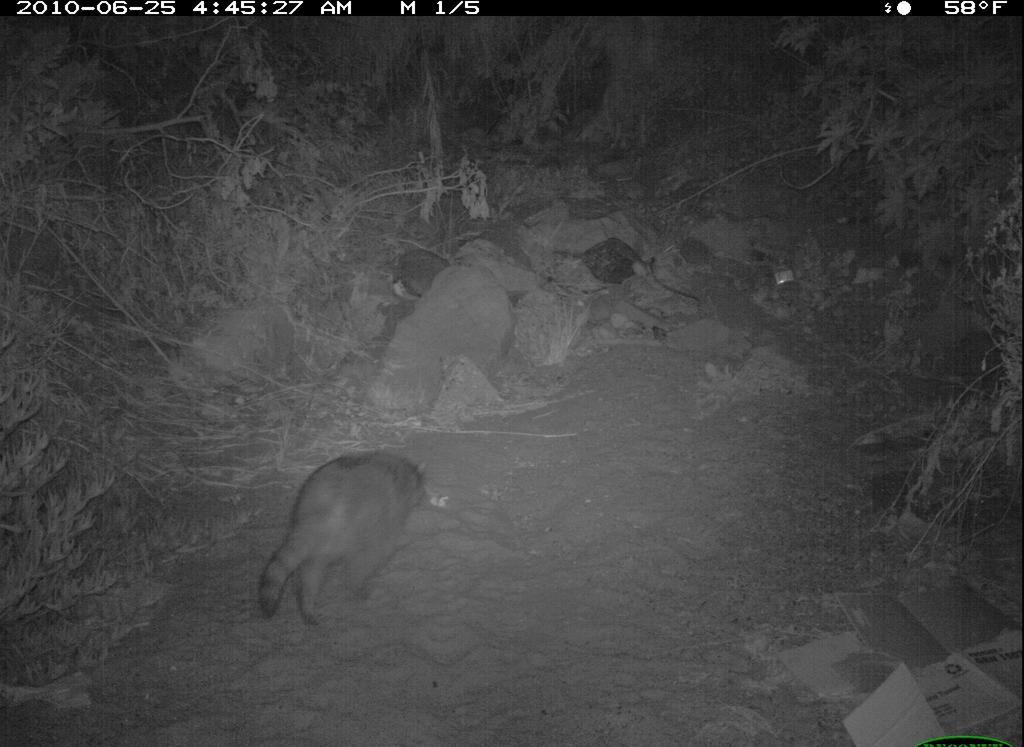raccoon: (245, 441, 428, 635)
